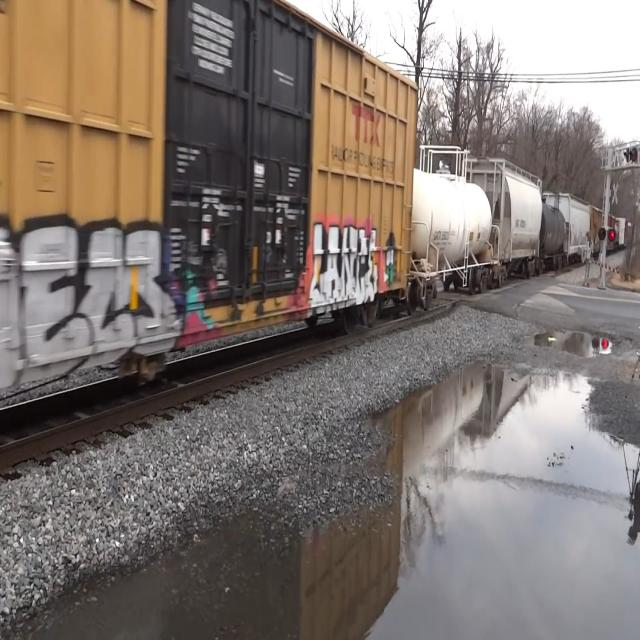boxcar: (4, 0, 426, 412)
hopper: (470, 154, 550, 285)
tank: (408, 154, 498, 312), (542, 197, 569, 269)
